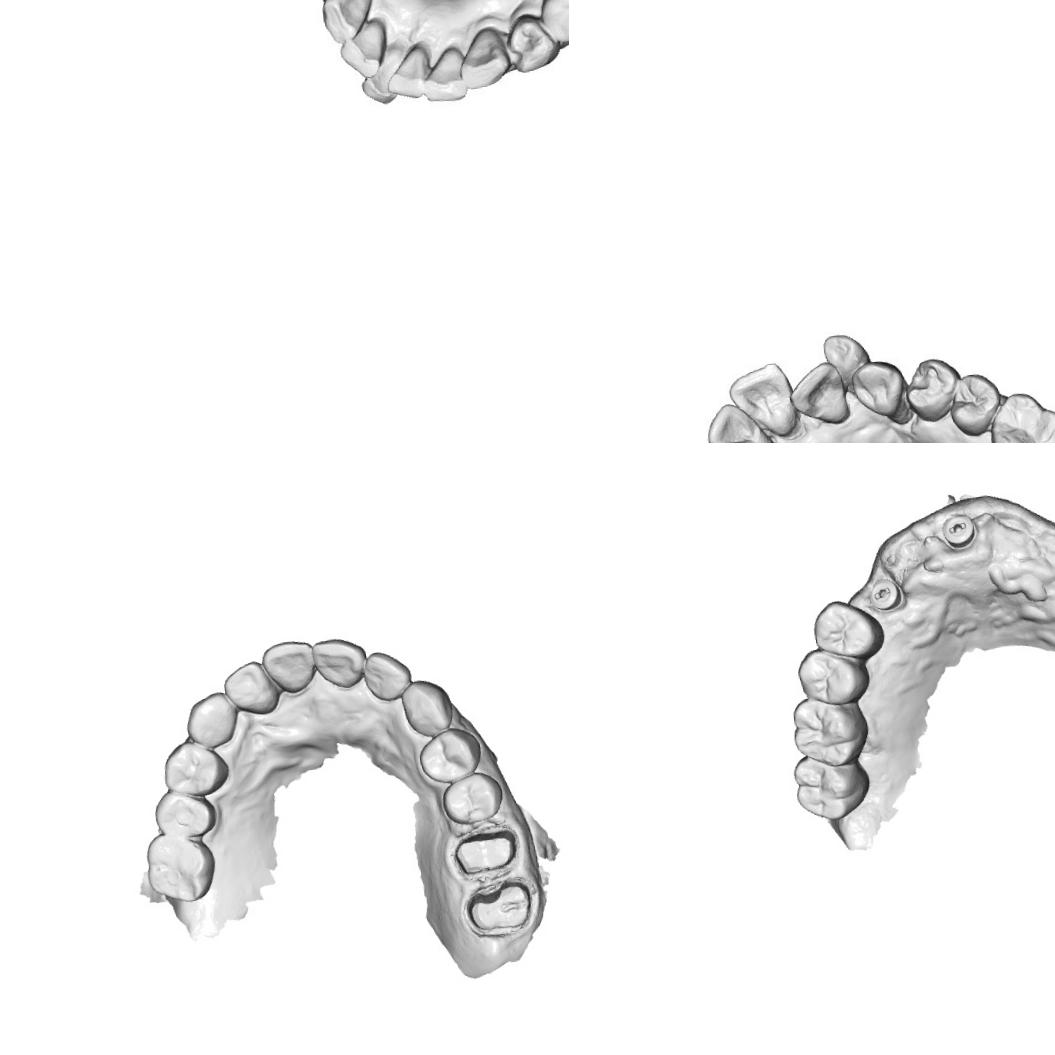canine: (397, 676, 456, 741), (849, 358, 907, 424), (182, 688, 241, 752), (457, 24, 511, 84), (321, 0, 378, 44)
crown: (462, 877, 534, 938), (448, 824, 522, 879)
implant_minus: (937, 511, 981, 551), (866, 574, 902, 610)
incisor: (724, 357, 800, 443), (701, 395, 781, 443), (259, 636, 320, 698), (797, 365, 856, 429), (219, 657, 279, 719), (310, 633, 370, 693), (355, 48, 410, 109), (360, 647, 414, 705), (816, 326, 872, 380), (425, 50, 470, 104), (392, 44, 433, 102), (341, 21, 387, 68)
molar: (786, 694, 872, 772), (142, 827, 220, 907), (792, 754, 864, 824), (981, 388, 1055, 443)
premolar: (808, 596, 883, 664), (794, 643, 866, 710), (160, 736, 232, 801), (942, 370, 1006, 440), (415, 723, 485, 786), (905, 354, 964, 426), (438, 768, 508, 828), (152, 784, 220, 842), (509, 14, 561, 72), (542, 0, 569, 37)
